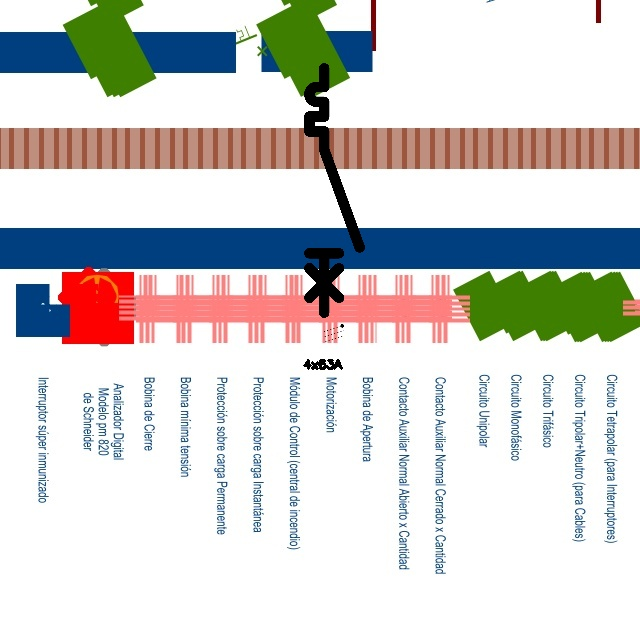interruptor_termomagnetico: (303, 62, 365, 318)
